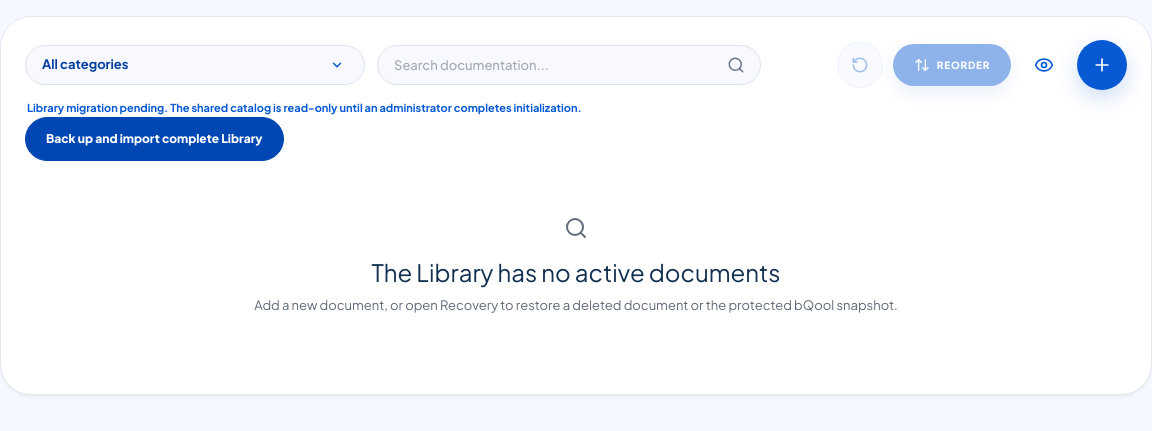
Scenario: catalog hydration › lets an ADMIN confirm and run the protected migration
What coordinates should you click on to do the following:
click the button "Back up and import complete Library"
I would click on:
 (154, 138)
Its box is [25,116,284,160].
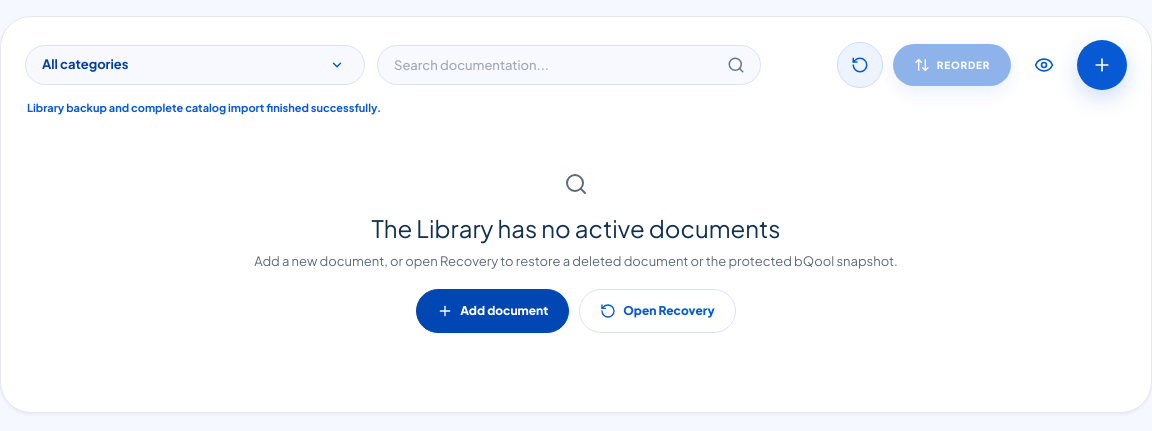
Expected: the text "Library backup and complete catalog import finished successfully." is shown, [27,101,381,114]
Expected: the button "Back up and import complete Library" is gone
